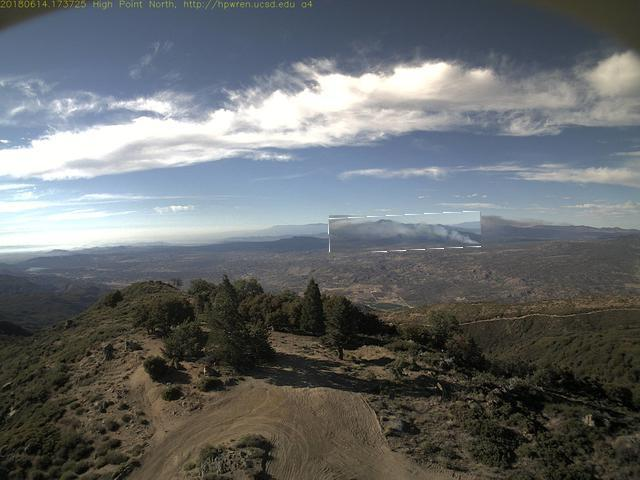smoke: (330, 214, 483, 253)
